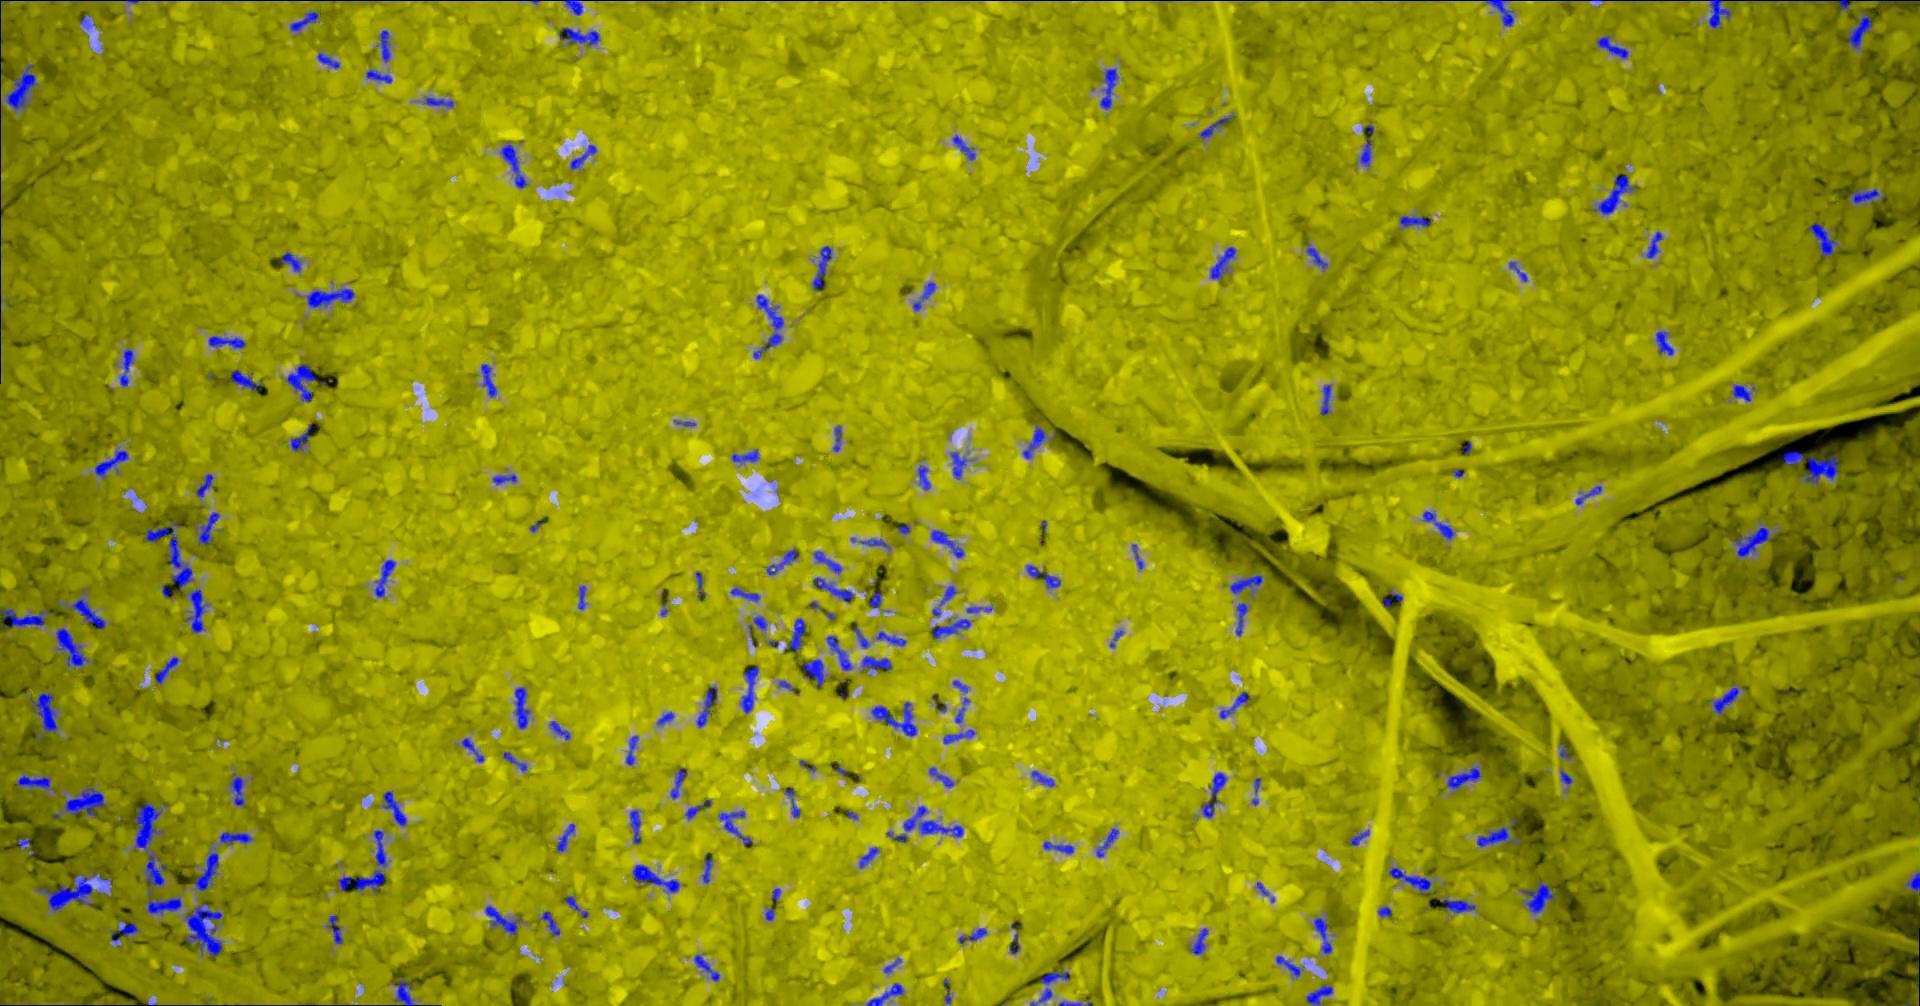ant: (143, 522, 193, 591), (337, 829, 386, 892), (886, 805, 963, 842), (145, 854, 182, 915), (752, 293, 783, 358), (37, 874, 91, 909), (185, 903, 222, 955), (1782, 450, 1837, 484), (1592, 174, 1636, 213), (870, 701, 916, 735), (5, 64, 37, 111), (133, 801, 163, 852), (1029, 970, 1069, 1005), (55, 627, 88, 668), (632, 864, 679, 892), (500, 144, 527, 188), (63, 788, 105, 815), (717, 810, 750, 845), (1521, 880, 1554, 915), (286, 365, 316, 401), (1388, 868, 1431, 893), (1733, 527, 1769, 558), (69, 598, 105, 627), (1201, 772, 1225, 817), (183, 588, 206, 633), (30, 692, 57, 730), (0, 607, 50, 627), (813, 577, 853, 601), (193, 852, 218, 890), (94, 448, 127, 478), (930, 528, 963, 558), (484, 904, 517, 934), (1810, 222, 1837, 257), (1846, 11, 1870, 50), (306, 288, 354, 307), (1199, 112, 1233, 138), (1422, 511, 1454, 539), (1209, 246, 1236, 279), (696, 686, 717, 727), (1476, 826, 1519, 846), (825, 635, 851, 669), (811, 245, 830, 290), (766, 547, 797, 574), (866, 982, 903, 1005), (740, 666, 758, 713), (1026, 564, 1060, 588), (382, 791, 406, 826), (1446, 766, 1481, 789), (1098, 69, 1117, 109), (375, 559, 395, 597), (1022, 426, 1045, 459), (557, 27, 599, 44), (110, 920, 138, 946), (1219, 692, 1248, 718), (1596, 36, 1628, 58), (932, 619, 970, 638), (197, 511, 218, 544), (1484, 0, 1512, 25), (932, 586, 956, 615), (569, 144, 596, 169), (1712, 687, 1738, 713), (693, 954, 719, 981), (1229, 574, 1262, 594), (912, 281, 935, 310), (1095, 828, 1117, 857), (230, 370, 260, 391), (155, 655, 178, 683), (1313, 917, 1331, 953), (514, 687, 530, 728), (1707, 0, 1730, 27), (813, 551, 841, 573), (392, 977, 414, 1005), (1275, 955, 1304, 976), (290, 424, 312, 450), (803, 659, 824, 686), (480, 363, 497, 398), (1848, 188, 1884, 203), (15, 774, 52, 789), (952, 135, 975, 159), (461, 737, 483, 762), (789, 619, 805, 652), (1305, 984, 1332, 1005), (290, 11, 317, 30), (119, 349, 133, 386), (1439, 898, 1476, 912), (1575, 485, 1601, 504), (1189, 927, 1208, 954), (669, 768, 686, 799), (949, 451, 966, 479), (556, 823, 574, 851), (564, 895, 587, 917), (928, 767, 952, 788), (229, 774, 244, 805), (684, 799, 710, 818), (208, 335, 245, 348), (1305, 246, 1327, 268), (503, 751, 526, 771), (783, 786, 799, 817), (376, 29, 390, 62), (218, 831, 251, 845), (540, 911, 559, 935), (1646, 231, 1662, 258), (1655, 330, 1672, 354), (861, 655, 891, 669), (943, 729, 974, 743), (326, 915, 342, 942), (957, 927, 985, 942), (279, 251, 301, 271), (549, 720, 570, 739), (730, 587, 759, 601), (876, 631, 905, 645), (196, 473, 213, 495), (629, 809, 640, 843), (731, 448, 759, 462), (1509, 260, 1528, 281), (954, 697, 969, 723), (1043, 841, 1073, 854), (858, 847, 877, 868), (1236, 603, 1247, 636), (852, 625, 869, 648), (1031, 770, 1054, 786), (364, 69, 391, 83), (625, 735, 637, 765), (1383, 589, 1402, 608), (1731, 384, 1751, 401), (317, 52, 339, 69), (1399, 215, 1430, 226), (1359, 137, 1370, 166), (917, 464, 930, 489), (423, 97, 453, 107), (1903, 871, 1919, 892), (702, 855, 712, 883), (1321, 384, 1330, 415), (491, 473, 516, 484), (1131, 544, 1143, 568), (17, 837, 33, 854), (564, 0, 582, 15), (858, 539, 889, 547), (1350, 829, 1368, 845), (695, 572, 703, 600), (657, 711, 674, 725), (1829, 0, 1853, 10), (832, 426, 841, 451), (1058, 998, 1092, 1005), (869, 591, 881, 607), (577, 586, 585, 608), (753, 615, 766, 630), (966, 606, 990, 614), (1010, 934, 1018, 953), (943, 978, 950, 1005), (1559, 770, 1572, 782), (1377, 906, 1390, 916)
